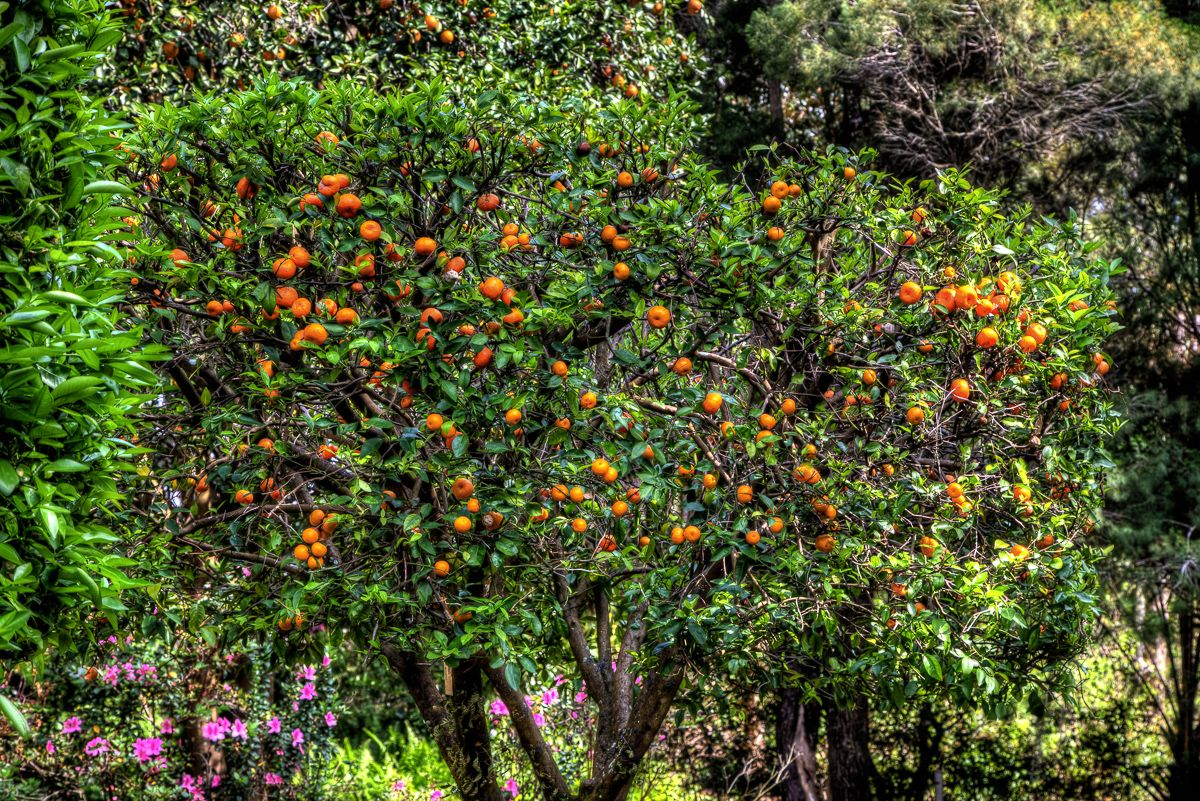orange: (896, 280, 923, 307), (648, 303, 674, 331), (314, 129, 340, 155), (946, 378, 973, 403), (698, 387, 723, 413), (339, 194, 364, 219), (952, 287, 976, 313), (300, 190, 326, 214), (895, 228, 920, 252), (482, 277, 508, 300), (449, 478, 475, 501), (670, 355, 694, 379), (235, 177, 259, 201), (970, 297, 994, 321), (223, 226, 247, 250), (910, 202, 931, 229), (386, 280, 413, 301), (977, 326, 1001, 349), (813, 532, 836, 556), (290, 248, 315, 270), (936, 289, 958, 314), (274, 284, 297, 307), (305, 325, 330, 346), (1018, 334, 1041, 356), (416, 235, 439, 257), (918, 536, 941, 558), (355, 252, 377, 275), (149, 287, 172, 309), (385, 241, 407, 263), (422, 308, 445, 329), (472, 346, 493, 369), (986, 293, 1009, 314), (615, 408, 636, 431), (463, 134, 485, 155), (783, 178, 804, 200), (462, 495, 484, 516), (1000, 269, 1021, 291), (1013, 485, 1035, 506), (143, 171, 164, 193), (1027, 321, 1050, 341), (167, 249, 190, 269), (317, 176, 340, 196), (314, 298, 338, 317), (792, 464, 813, 485), (444, 429, 466, 449), (611, 262, 632, 282), (274, 259, 295, 279), (448, 257, 469, 277), (292, 297, 312, 318), (377, 489, 397, 510), (485, 510, 505, 531), (838, 163, 857, 185), (953, 502, 976, 520), (765, 224, 785, 244), (159, 151, 179, 171), (502, 409, 522, 429), (257, 440, 277, 460), (552, 359, 571, 380), (259, 359, 280, 378), (599, 222, 618, 243), (335, 169, 356, 188), (436, 420, 458, 438), (906, 401, 923, 424), (765, 193, 785, 212), (417, 328, 436, 348), (601, 465, 620, 485), (567, 485, 587, 504), (613, 233, 632, 253), (806, 467, 825, 487), (233, 488, 254, 506), (424, 413, 443, 432), (338, 308, 357, 327), (219, 296, 238, 315), (820, 503, 839, 522), (1068, 299, 1087, 318), (531, 138, 550, 157), (198, 198, 217, 217), (583, 295, 602, 314), (262, 301, 280, 321), (756, 431, 774, 451), (502, 232, 520, 252), (1009, 543, 1027, 563), (479, 193, 500, 210), (363, 220, 380, 241), (456, 515, 473, 536), (612, 499, 631, 517), (550, 485, 569, 503), (569, 197, 588, 215), (601, 533, 620, 551), (455, 607, 474, 625), (294, 544, 311, 564), (193, 471, 210, 491), (321, 513, 339, 531), (484, 320, 502, 338), (403, 377, 421, 395), (686, 526, 703, 545), (702, 473, 719, 492), (597, 185, 614, 204), (161, 40, 178, 59), (503, 308, 523, 324), (309, 509, 326, 527), (311, 541, 328, 559), (306, 555, 324, 572), (434, 561, 451, 579), (206, 300, 224, 317), (580, 393, 598, 410), (949, 492, 967, 509), (399, 160, 417, 177), (558, 233, 576, 250), (722, 420, 737, 440), (628, 487, 645, 504), (759, 413, 776, 430), (617, 170, 634, 187), (612, 139, 629, 156), (204, 226, 221, 243), (108, 133, 125, 150), (121, 214, 138, 231), (263, 386, 280, 403), (769, 517, 786, 534), (573, 517, 589, 535), (813, 495, 831, 511), (946, 480, 962, 498), (552, 178, 570, 194), (184, 64, 200, 82), (502, 288, 520, 304), (772, 181, 788, 198), (593, 459, 609, 476), (572, 229, 588, 246), (229, 31, 246, 47), (424, 15, 441, 31), (460, 322, 477, 338), (509, 426, 526, 442), (642, 168, 659, 184), (892, 581, 908, 598), (302, 529, 320, 544), (738, 486, 753, 504), (747, 530, 762, 548), (513, 132, 531, 147), (231, 317, 249, 332), (516, 229, 532, 245), (122, 148, 138, 164), (260, 48, 276, 64), (270, 484, 286, 500), (277, 615, 293, 631), (782, 396, 797, 413), (1095, 362, 1112, 377), (599, 143, 616, 158), (267, 3, 284, 18), (398, 395, 415, 410), (289, 338, 305, 353), (555, 417, 571, 432), (435, 248, 450, 264), (912, 600, 927, 616), (641, 444, 656, 460), (504, 222, 521, 236), (361, 270, 379, 283), (291, 330, 310, 342), (680, 463, 695, 478), (231, 210, 246, 225), (442, 29, 457, 44), (410, 28, 425, 43), (260, 477, 275, 492), (1048, 373, 1063, 388), (1091, 350, 1107, 364), (126, 250, 140, 266), (610, 73, 626, 87), (863, 369, 877, 385), (638, 533, 652, 549), (294, 613, 308, 628), (482, 6, 497, 20), (805, 444, 820, 458), (1038, 531, 1052, 546), (886, 617, 900, 632), (821, 342, 836, 356), (1047, 468, 1063, 481), (676, 531, 690, 545), (284, 31, 298, 45), (626, 84, 640, 98), (1060, 398, 1074, 412), (439, 202, 454, 215), (442, 351, 455, 366), (883, 462, 896, 477), (352, 281, 366, 294), (528, 512, 541, 526), (539, 484, 552, 498), (636, 142, 649, 156), (1104, 298, 1118, 311), (879, 567, 894, 579), (679, 50, 692, 63), (623, 19, 636, 32), (944, 265, 957, 278), (273, 46, 285, 60), (538, 507, 550, 521), (823, 389, 836, 401), (842, 407, 854, 420), (1035, 622, 1047, 635), (766, 503, 779, 515), (643, 63, 655, 75), (865, 467, 877, 479), (129, 275, 140, 288), (1062, 370, 1072, 384), (844, 396, 856, 406), (551, 68, 559, 77), (457, 50, 466, 58), (561, 61, 569, 69)
